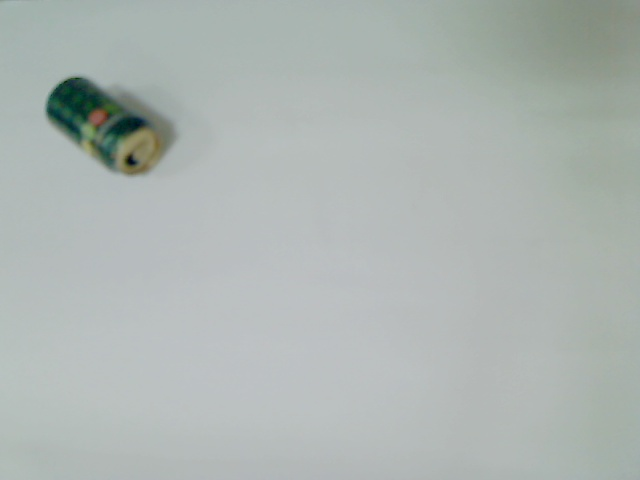can: (44, 75, 166, 178)
